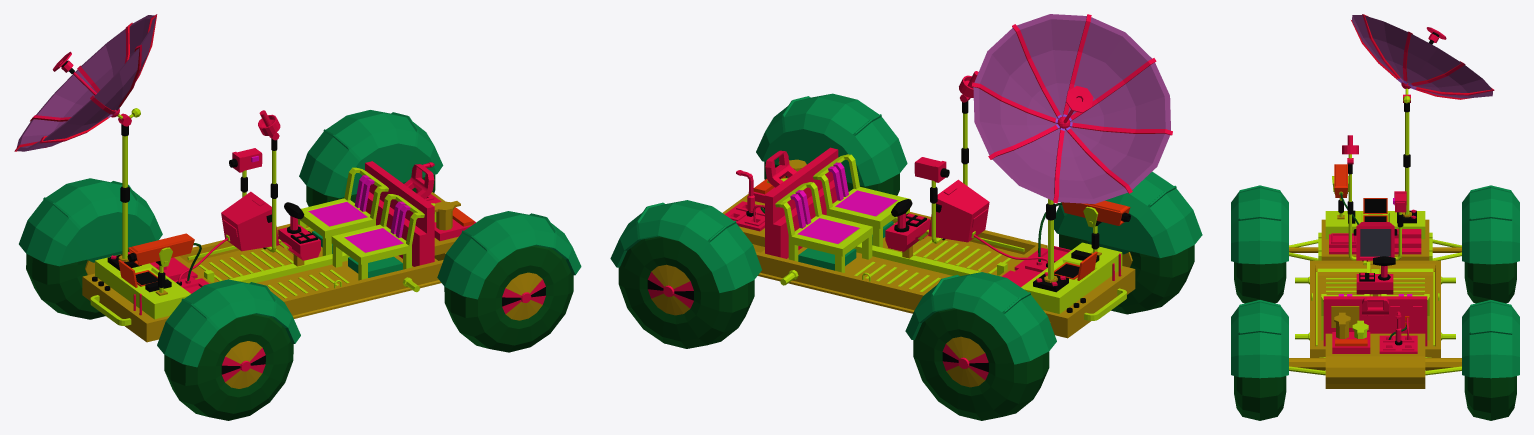
File: buggy.glb
3 views of the same model, side by side, from view 1: azimuth 30°, elevation 25°; view 2: azimuth 150°, elevation 25°; view 3: azimuth 270°, elevation 25° (orthographic). The views are drawn at different scales.
Visible parts, largest first — view 1: Wheels.019, Sphere.001, Wheels.020, Wheels.012, Wheels.016, Cube.059, Wheels.018, Wheels.014, Cube.060, Cube.115, Cube.063, Wheels.015 (+15 smaller); view 2: Sphere.001, Cube.059, Wheels.018, Wheels.015, Wheels.017, Wheels.020, Wheels.019, Wheels.014, Cube.115, Wheels.012, Cube.060, Cube.063 (+16 smaller); view 3: Sphere.001, Cube.059, Wheels.014, Wheels.019, Wheels.018, Wheels.020, Cube.064, Cube.063, Wheels.016, Wheels.017, Wheels.012, Wheels.015 (+21 smaller).
Boxes of the visible parts, <box> form: Wheels.019: <box>19,178,162,266</box>; Sphere.001: <box>14,14,157,151</box>; Wheels.020: <box>299,110,443,198</box>; Wheels.012: <box>164,314,293,420</box>; Wheels.016: <box>444,245,573,352</box>; Cube.059: <box>176,224,445,318</box>; Wheels.018: <box>437,211,581,299</box>; Wheels.014: <box>157,279,300,367</box>; Cube.060: <box>331,194,424,280</box>; Cube.115: <box>298,167,388,255</box>; Cube.063: <box>365,161,434,266</box>; Wheels.015: <box>26,250,129,319</box>; Sphere.001: <box>972,14,1172,203</box>; Cube.059: <box>752,212,1047,313</box>; Wheels.018: <box>756,93,907,186</box>; Wheels.015: <box>913,308,1049,420</box>; Wheels.017: <box>618,236,754,348</box>; Wheels.020: <box>610,200,761,292</box>; Wheels.019: <box>905,272,1056,364</box>; Wheels.014: <box>1054,171,1202,258</box>; Cube.115: <box>775,182,872,272</box>; Wheels.012: <box>1059,234,1194,314</box>; Cube.060: <box>813,154,910,247</box>; Cube.063: <box>765,147,838,258</box>; Sphere.001: <box>1351,14,1494,99</box>; Cube.059: <box>1310,260,1440,357</box>; Wheels.014: <box>1231,185,1288,264</box>; Wheels.019: <box>1462,185,1519,264</box>; Wheels.018: <box>1231,300,1288,378</box>; Wheels.020: <box>1462,300,1519,378</box>; Cube.064: <box>1325,333,1425,388</box>; Cube.063: <box>1323,296,1427,346</box>; Wheels.016: <box>1234,376,1286,420</box>; Wheels.017: <box>1464,376,1516,420</box>; Wheels.012: <box>1234,262,1286,303</box>; Wheels.015: <box>1464,262,1516,303</box>.
Bounding box in the file's own units: 8.39 × 5.8 × 5.44.
1 material, 1 textured.
